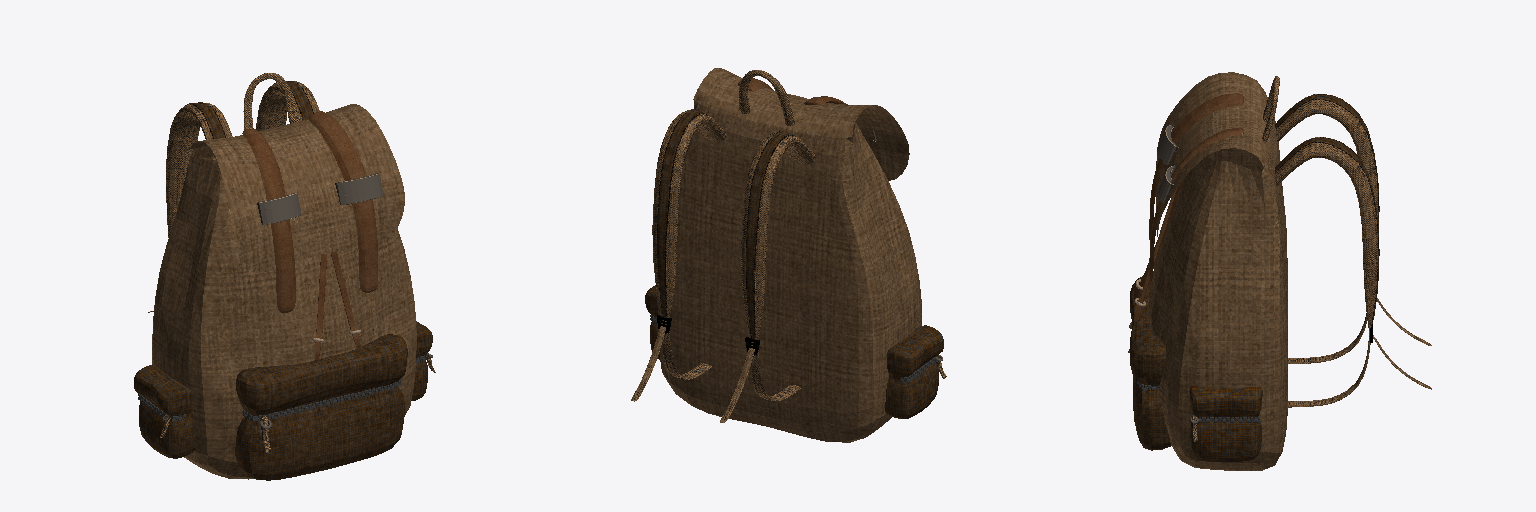
The picture shows the model from 3 angles: view 1: azimuth 30°, elevation 25°; view 2: azimuth 150°, elevation 25°; view 3: azimuth 270°, elevation 25°; orthographic projection.
Visible parts, largest first — view 1: Backpack_lambert polySurface3, Backpack_lambert polySurface4, Backpack_lambert Backpack1_pCube23, Backpack_lambert polySurface351, Backpack_lambert Backpack1_polySurface295, Backpack_lambert pCube32, Backpack_lambert polySurface291; view 2: Backpack_lambert polySurface3, Backpack_lambert polySurface351, Backpack_lambert Backpack1_polySurface295; view 3: Backpack_lambert polySurface3, Backpack_lambert polySurface351, Backpack_lambert Backpack1_polySurface295, Backpack_lambert polySurface4, Backpack_lambert Backpack1_pCube23, Backpack_lambert pCube32.
Boxes of the visible parts, box(x1,y1,x2,y2) form: Backpack_lambert polySurface3: box(152, 104, 416, 479); Backpack_lambert polySurface4: box(235, 334, 407, 480); Backpack_lambert Backpack1_pCube23: box(242, 111, 382, 312); Backpack_lambert polySurface351: box(148, 73, 319, 312); Backpack_lambert Backpack1_polySurface295: box(134, 321, 432, 458); Backpack_lambert pCube32: box(312, 252, 360, 360); Backpack_lambert polySurface291: box(243, 380, 400, 421); Backpack_lambert polySurface3: box(657, 68, 921, 442); Backpack_lambert polySurface351: box(631, 70, 815, 422); Backpack_lambert Backpack1_polySurface295: box(645, 285, 943, 418); Backpack_lambert polySurface3: box(1148, 72, 1287, 470); Backpack_lambert polySurface351: box(1262, 76, 1431, 407); Backpack_lambert Backpack1_polySurface295: box(1190, 386, 1262, 461); Backpack_lambert polySurface4: box(1130, 275, 1170, 450); Backpack_lambert Backpack1_pCube23: box(1149, 93, 1243, 281); Backpack_lambert pCube32: box(1134, 178, 1184, 322).
Bounding box in the file's own units: 32.95 × 41.87 × 31.66.
9 materials, 7 textured.